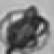not correct: (0, 6, 54, 54)
